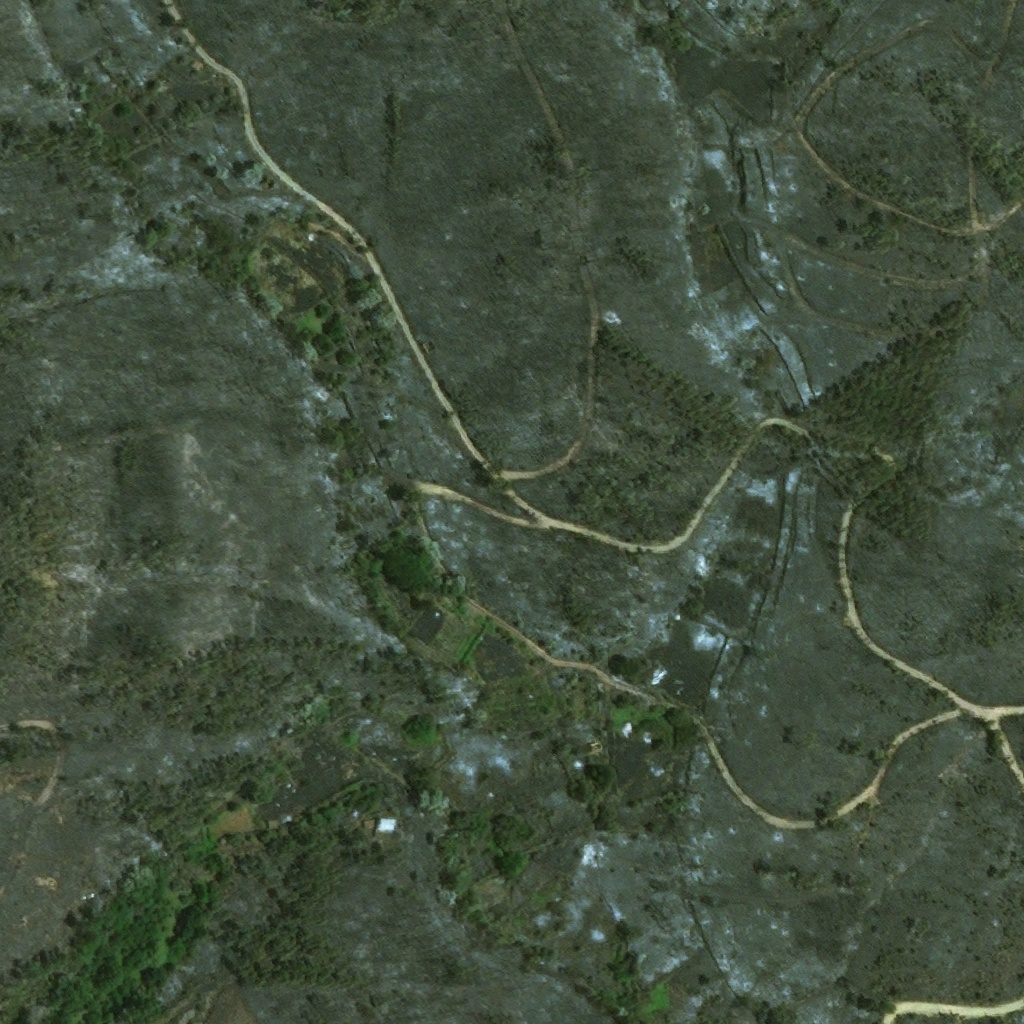3 destroyed: (372, 817, 396, 833), (309, 234, 314, 242)
